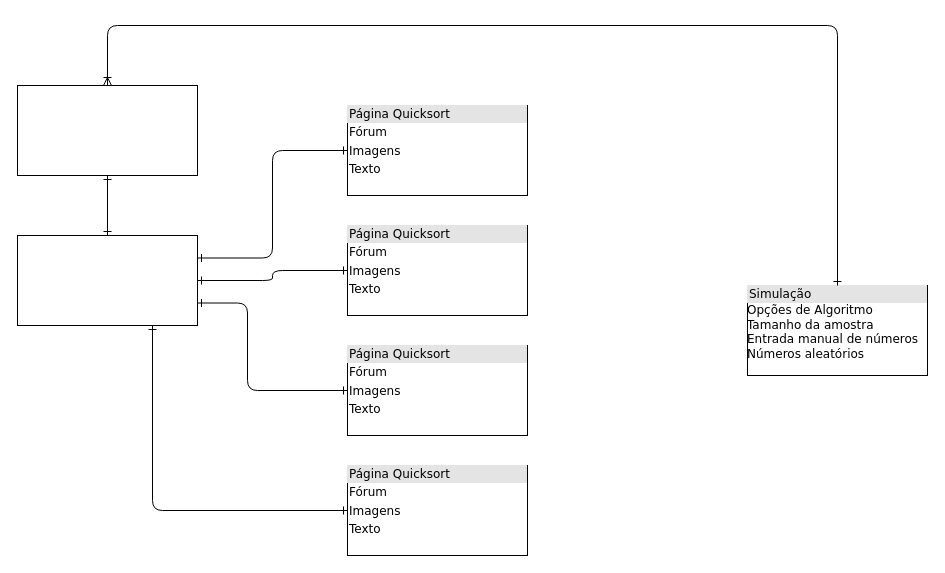
This 945x573 diagram has some shape labels left out. Each missing label, with the box of its shape:
Página Inicial Informações Gerais: (16, 234, 198, 326)
Usuário Login Senha: (16, 84, 198, 176)
